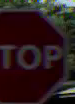Stop: (0, 8, 69, 103)
